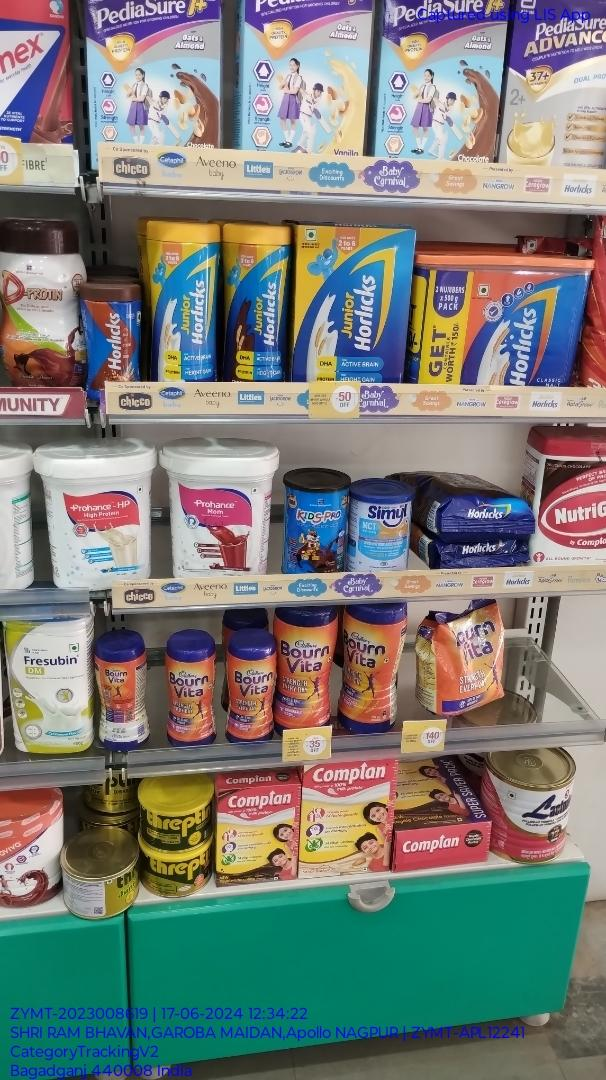BOURN_VITA_200_G_JAR: (166, 637, 220, 745), (225, 634, 275, 743)
BOURN_VITA_500_G_JAR: (342, 604, 396, 730), (277, 609, 332, 727)
BOURN_VITA_500_G_POUCH: (424, 607, 506, 712)
COMPLAN_CHOCOLATE_500_GMS_PACK: (217, 789, 297, 881)
COMPLAN_KESAR_BADAM_500_GMS_PACK: (302, 762, 393, 873)
HORLICKS_JUNIOR_VANILLA_500_GM_JAR: (146, 216, 218, 383)
HORLICK_CHOCOLATE_200_G_JAR: (81, 283, 141, 380)
HORLICK_MALT_1_KG_CONTAINER: (413, 255, 579, 383)
PEDIASURE_7_PLUS_CHOCOLATE_400_G_PACK: (89, 0, 221, 150), (380, 0, 497, 160)
